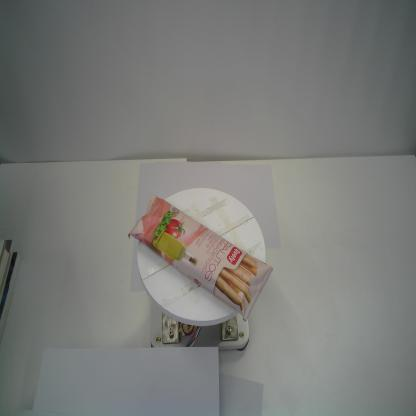Dessert: (127, 192, 274, 324)
